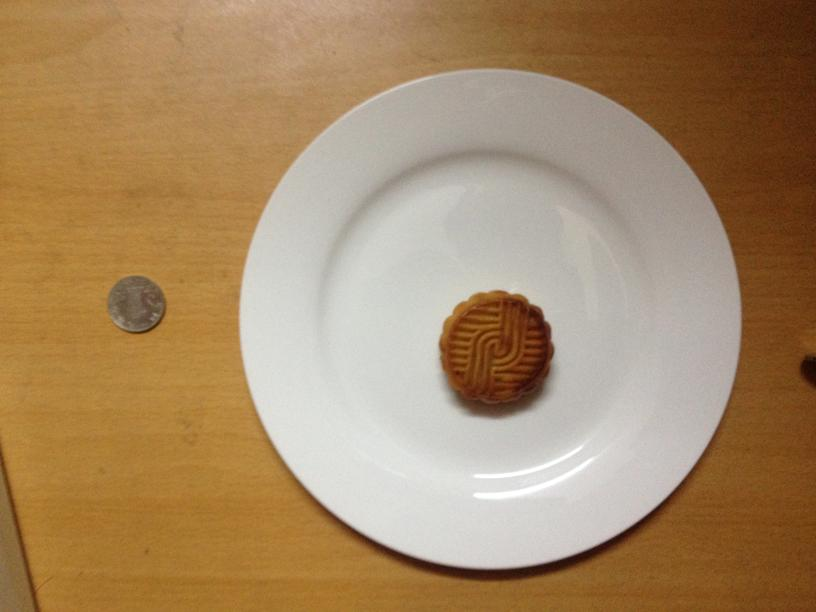coin: (104, 276, 164, 331)
mooncake: (437, 292, 555, 405)
